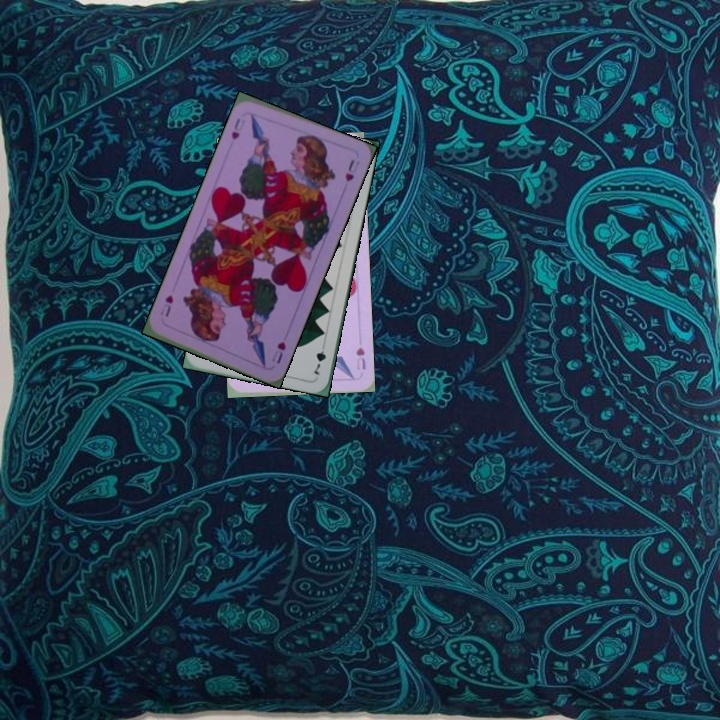G7: (309, 338, 329, 378)
HU: (227, 114, 251, 143), (267, 338, 289, 366), (352, 343, 368, 372)
